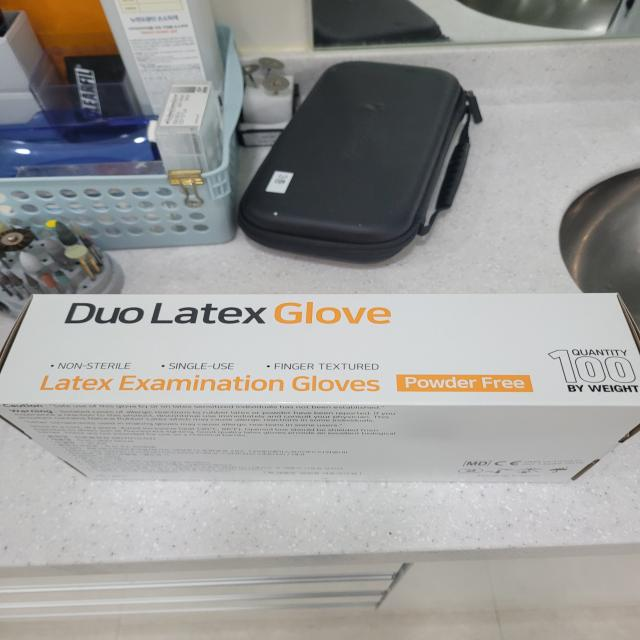glove: (8, 283, 640, 519)
